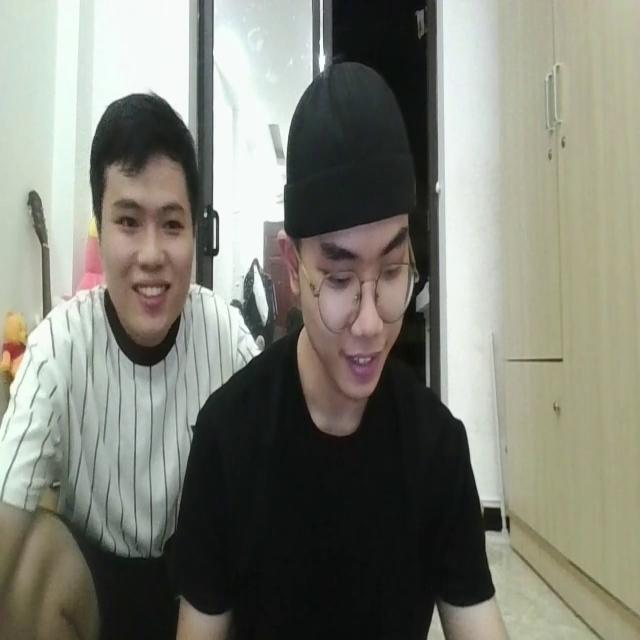extra_person: (12, 90, 198, 633)
student: (188, 57, 508, 640)
